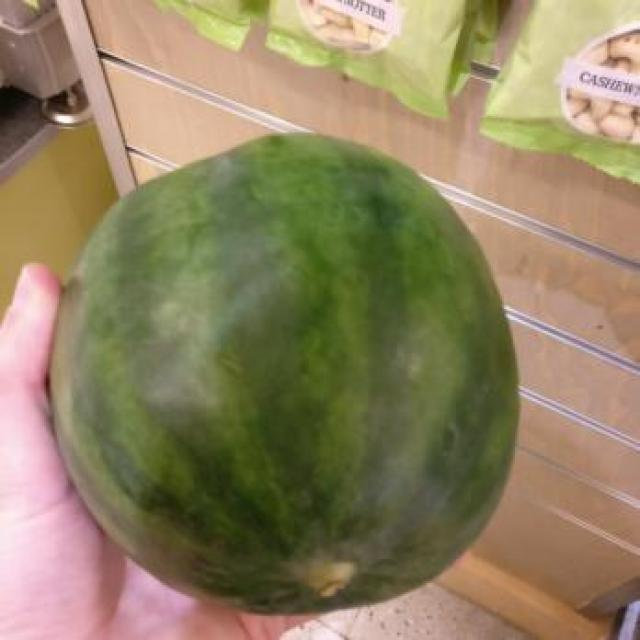Watermelon: (53, 132, 519, 614)
